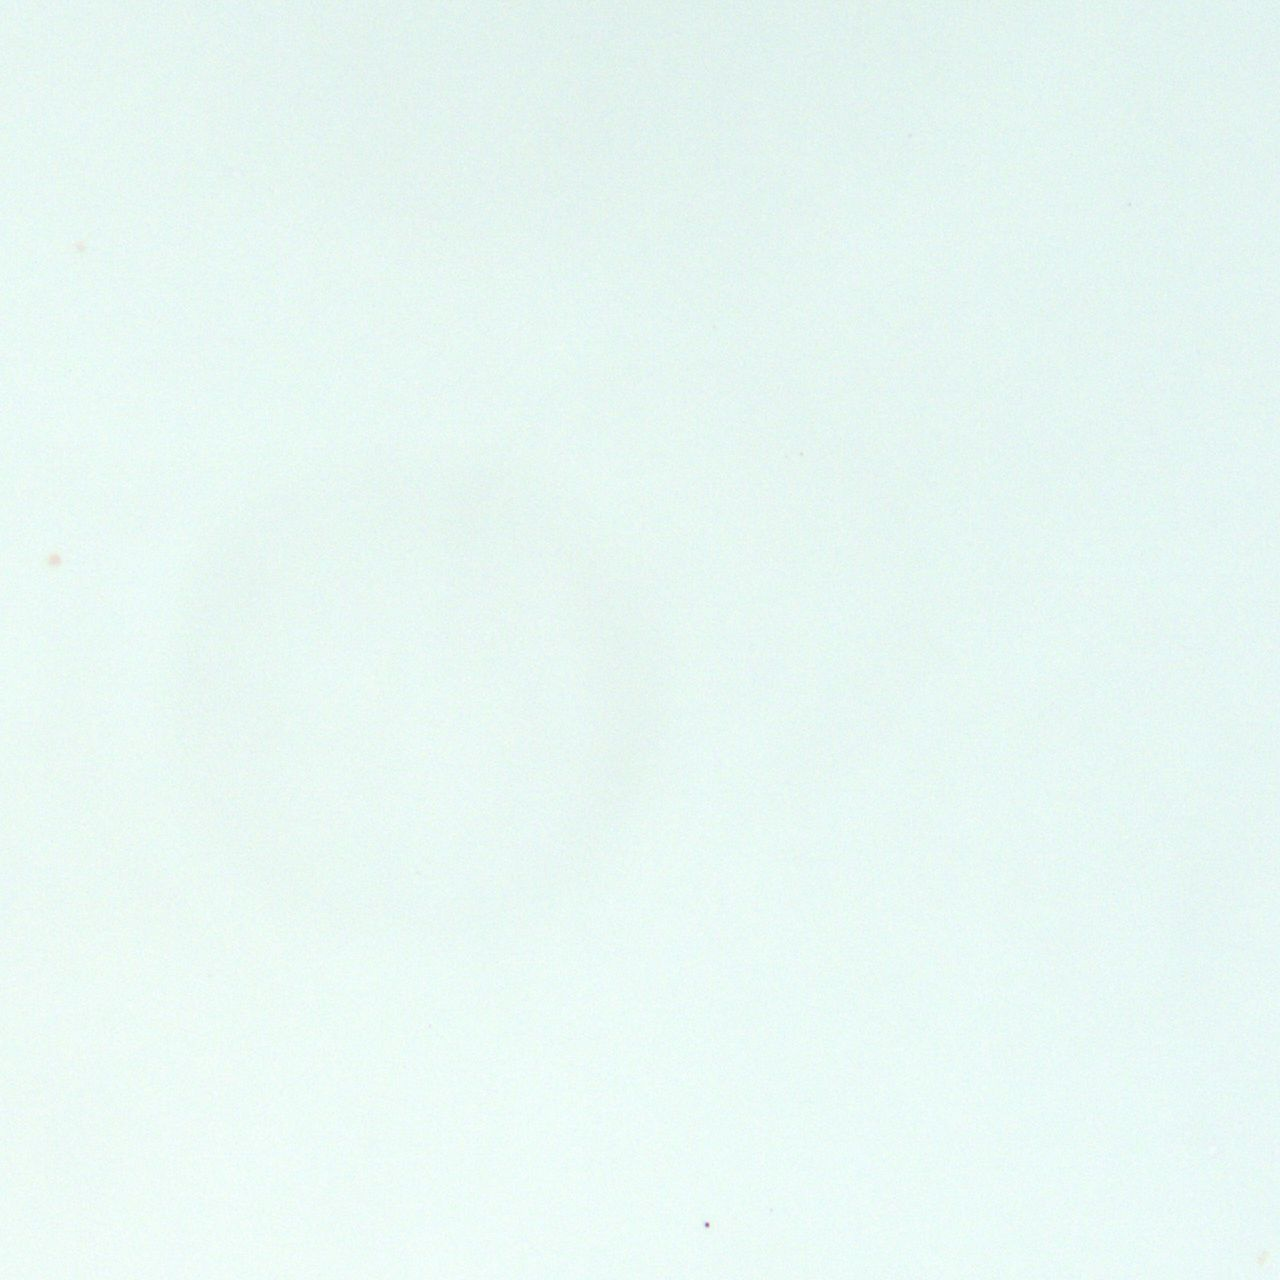dust: (46, 554, 63, 570), (702, 1220, 712, 1228)
